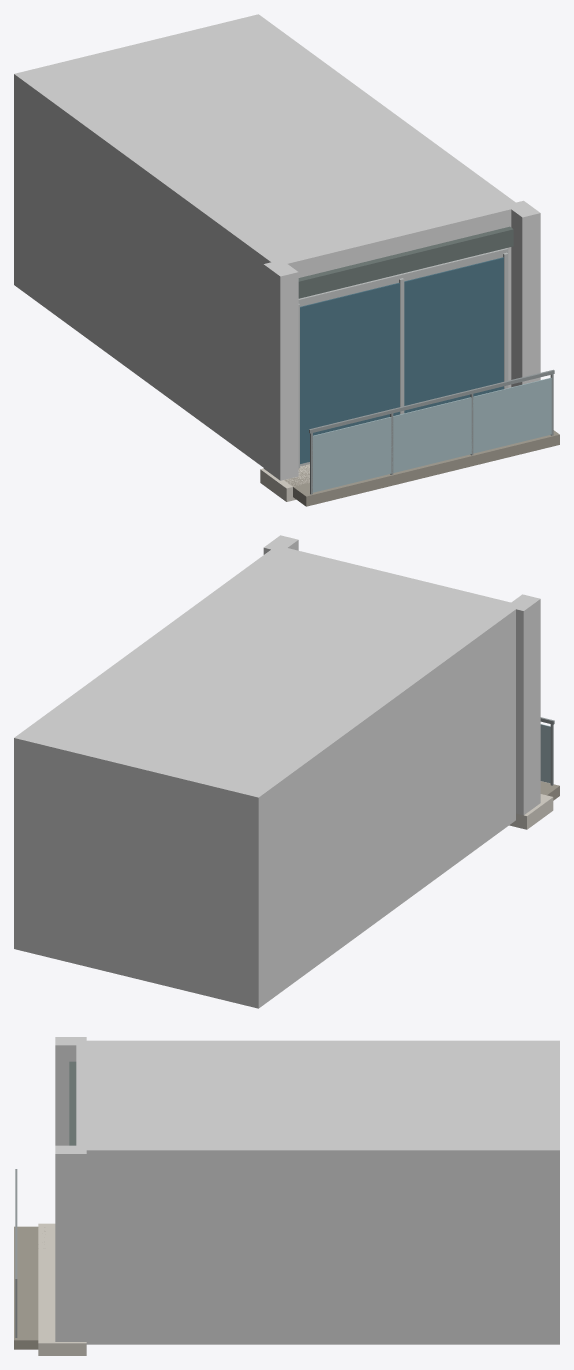
File: lau_kinh_lua_40.glb
3 views of the same model, one above another, from view 1: azimuth 30°, elevation 25°; view 2: azimuth 150°, elevation 25°; view 3: azimuth 270°, elevation 25° (orthographic). The views are drawn at different scales.
Visible parts, largest first — view 1: lau_kinh_lua_40; view 2: lau_kinh_lua_40; view 3: lau_kinh_lua_40.
Boxes of the visible parts, x1,y1,x2,y2 form: lau_kinh_lua_40: (14, 14, 559, 506); lau_kinh_lua_40: (14, 535, 559, 1008); lau_kinh_lua_40: (14, 1037, 559, 1355).
Size of the model in its own units: 4.1 by 3.2 by 7.9.
